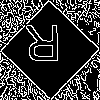R: (25, 25, 62, 71)
